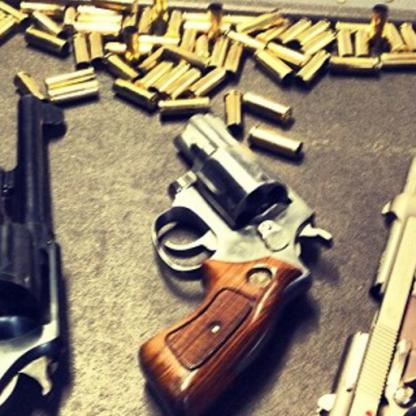gun: (141, 108, 329, 415), (316, 140, 415, 415), (0, 84, 63, 415)
